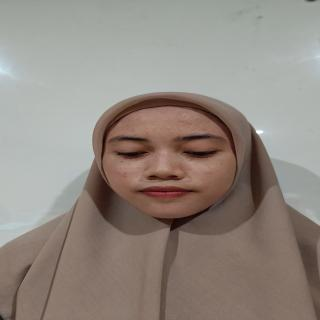Sedih: (104, 105, 247, 225)
